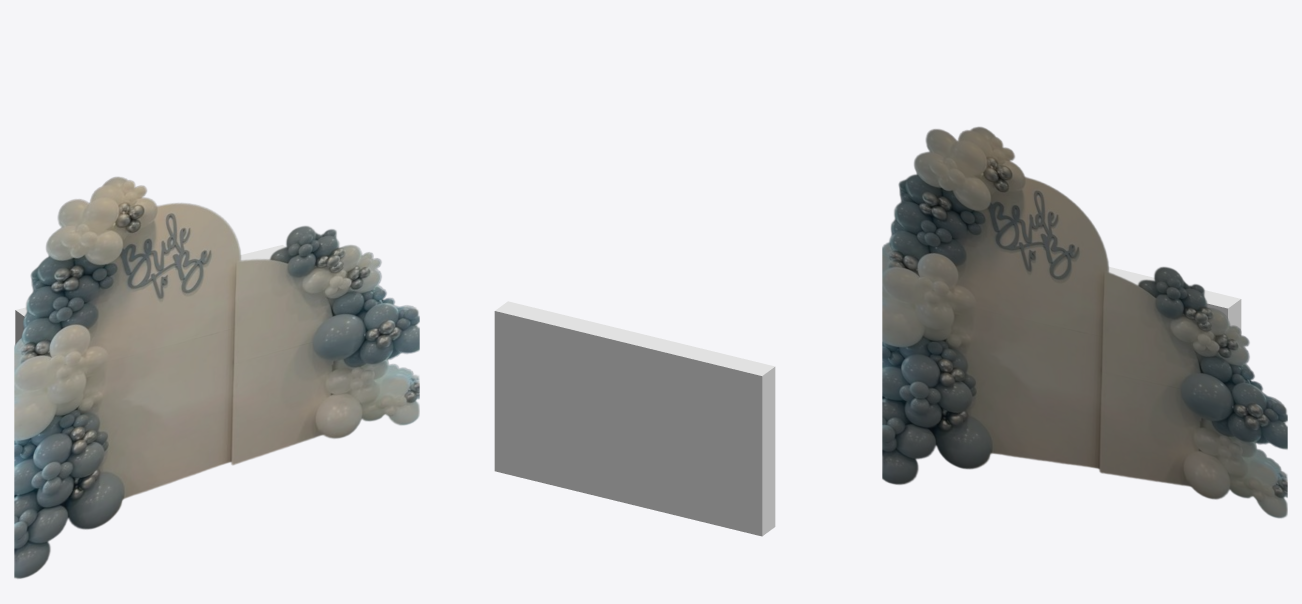
Rendered from gray-white-bridalshower-decoration.glb.
The picture shows the model from 3 angles, left to right: view 1: azimuth 30°, elevation 25°; view 2: azimuth 150°, elevation 25°; view 3: azimuth 330°, elevation 25°; orthographic projection.
Visible parts, largest first — view 1: Plane, Box; view 2: Box; view 3: Plane, Box.
Part boxes in pixels (<box>): Plane: <box>14,177,419,578</box>; Box: <box>15,245,285,345</box>; Box: <box>494,301,775,536</box>; Plane: <box>882,127,1287,518</box>; Box: <box>1108,266,1241,335</box>.
Bounding box in the file's own units: 5.4 × 6.08 × 1.04.
Materials: 2 (1 with a texture image).
